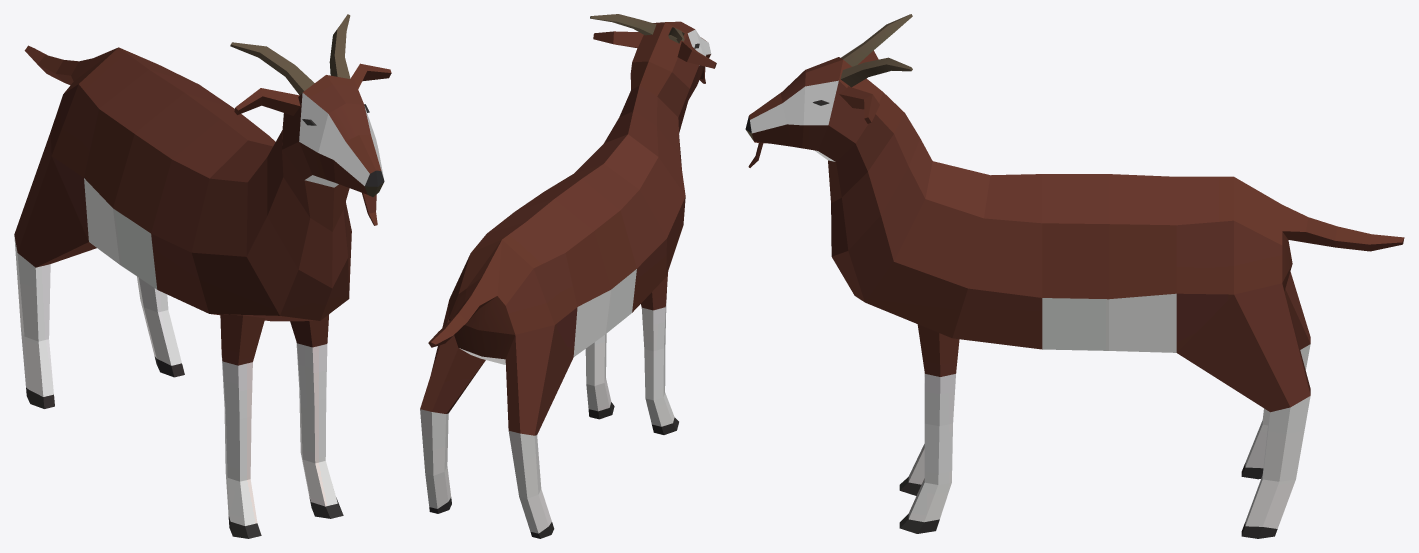
The model's file is goat.glb.
The picture shows the model from 3 angles, left to right: view 1: azimuth 30°, elevation 25°; view 2: azimuth 150°, elevation 25°; view 3: azimuth 270°, elevation 25°; orthographic projection. The views are drawn at different scales.
Parts seen in each view (by area): view 1: Geo_Goat; view 2: Geo_Goat; view 3: Geo_Goat.
Boxes of the visible parts, box(x1,y1,x2,y2) form: Geo_Goat: box(14, 14, 391, 538); Geo_Goat: box(420, 14, 716, 538); Geo_Goat: box(745, 14, 1404, 538).
Bounding box in the file's own units: 0.2609 × 0.8 × 1.02.
Materials: 1 (1 with a texture image).
